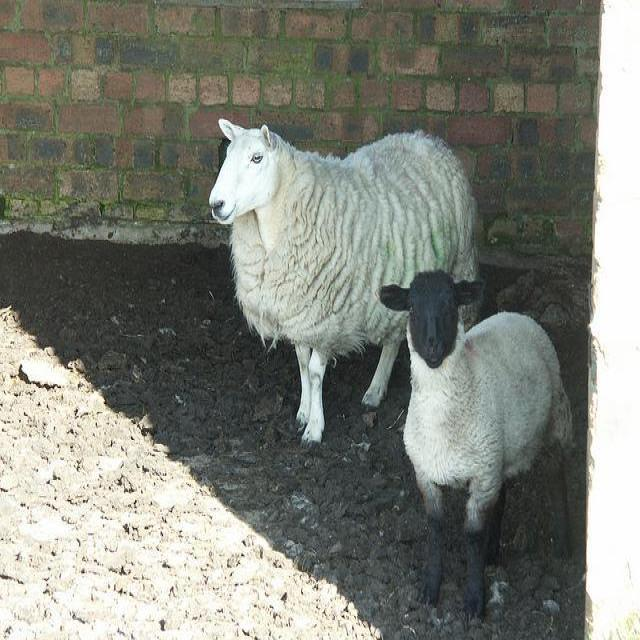Sheep: (208, 119, 478, 444), (377, 267, 582, 621)
